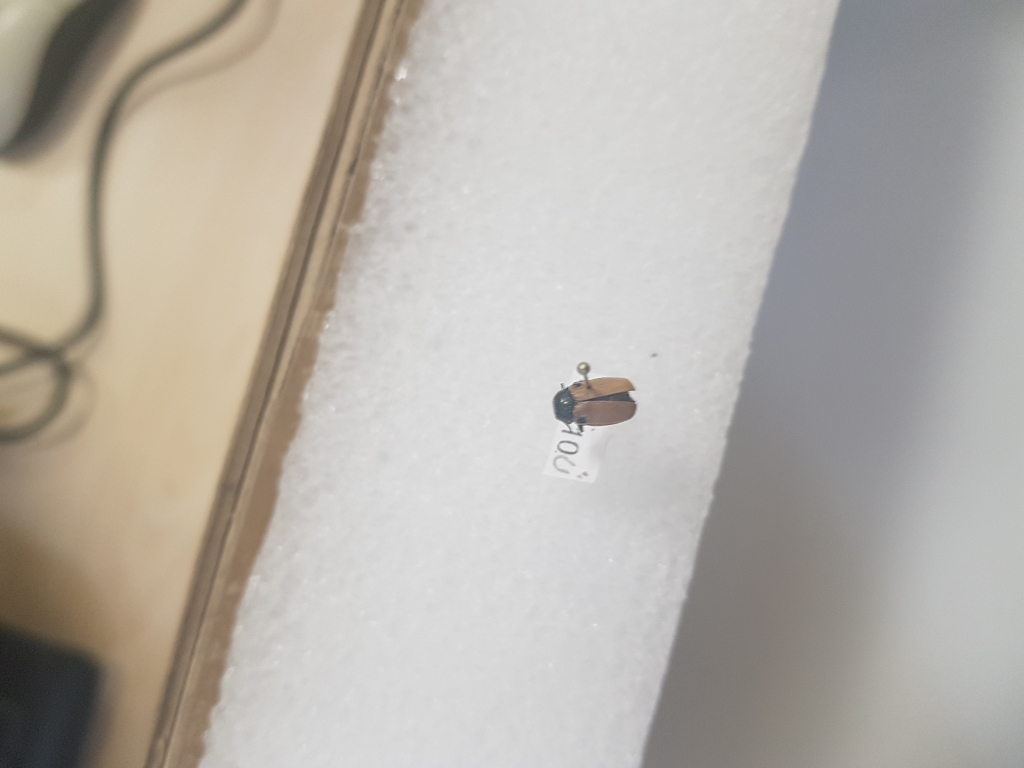Labidostomis_longimana: (545, 374, 640, 435)
